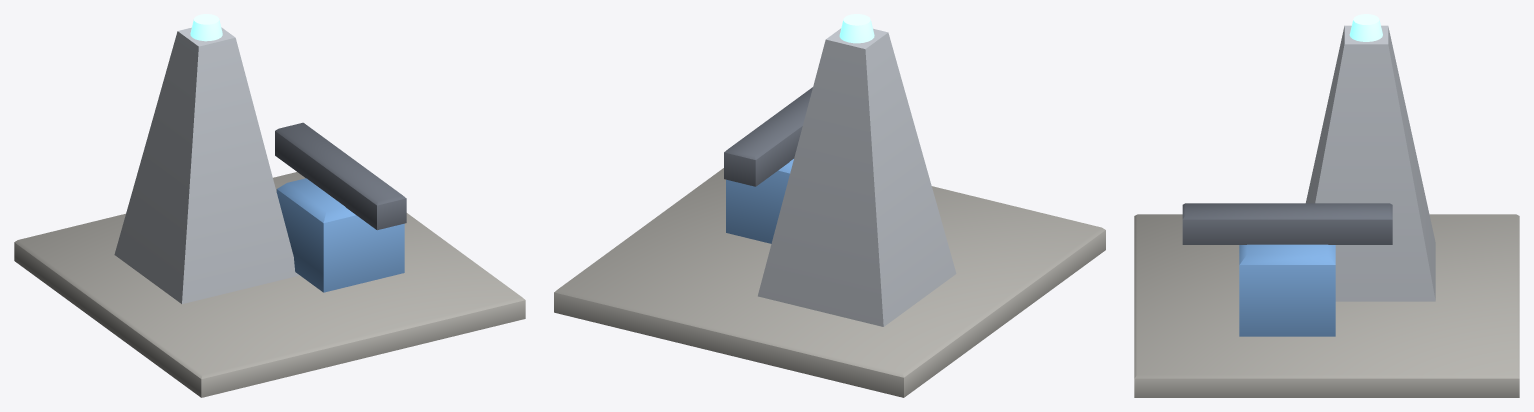
Rendered from caoild.glb.
3 renders of one model, left to right at view 1: azimuth 30°, elevation 25°; view 2: azimuth 150°, elevation 25°; view 3: azimuth 270°, elevation 25°, orthographic. The views are drawn at different scales.
Visible parts, largest first — view 1: Hull; view 2: Hull; view 3: Hull.
Part boxes in pixels (x1,y1,x2,y2): Hull: [14, 14, 525, 397]; Hull: [554, 14, 1105, 397]; Hull: [1134, 14, 1519, 397].
Bounding box in the file's own units: 3.17 × 2.5 × 3.17.
